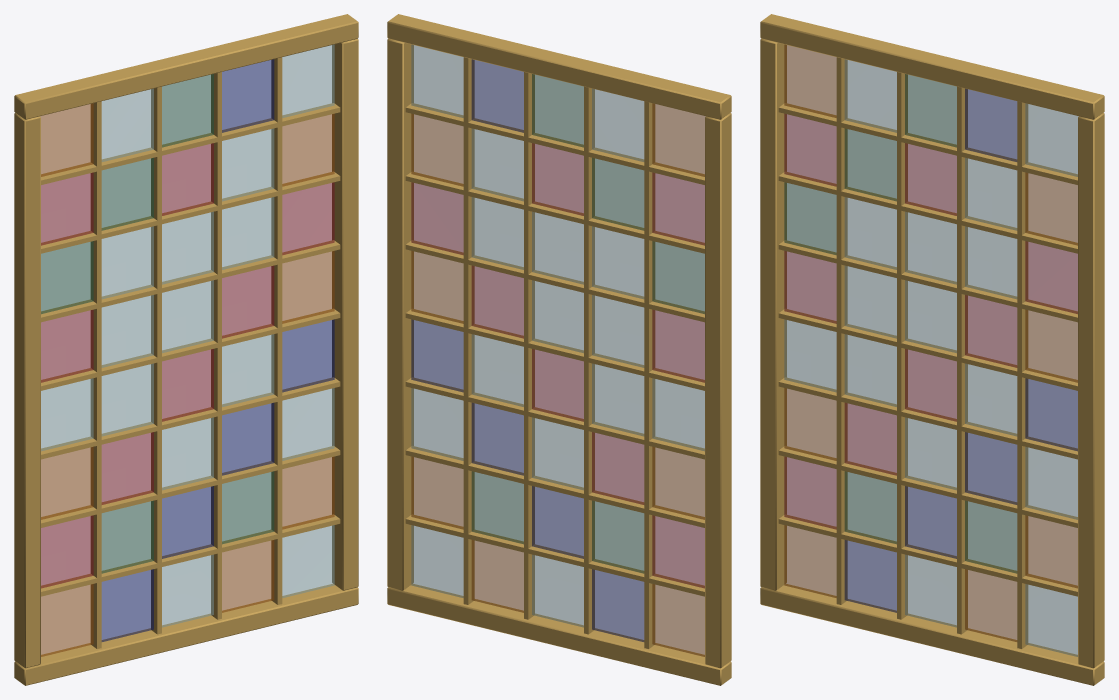
The model's file is tea-manchu-window.glb.
3 views of the same model, side by side, from view 1: azimuth 30°, elevation 25°; view 2: azimuth 150°, elevation 25°; view 3: azimuth 330°, elevation 25° (orthographic).
Visible parts, largest first — view 1: glass__glass_tint, frame__brass; view 2: glass__glass_tint, frame__brass; view 3: glass__glass_tint, frame__brass.
Boxes of the visible parts, bbox=[...] form: glass__glass_tint: bbox=[40, 44, 334, 656]; frame__brass: bbox=[14, 14, 358, 685]; glass__glass_tint: bbox=[411, 44, 705, 656]; frame__brass: bbox=[387, 14, 731, 685]; glass__glass_tint: bbox=[784, 44, 1078, 656]; frame__brass: bbox=[760, 14, 1104, 685].
Bounding box in the file's own units: 1.2 × 2 × 0.07.
